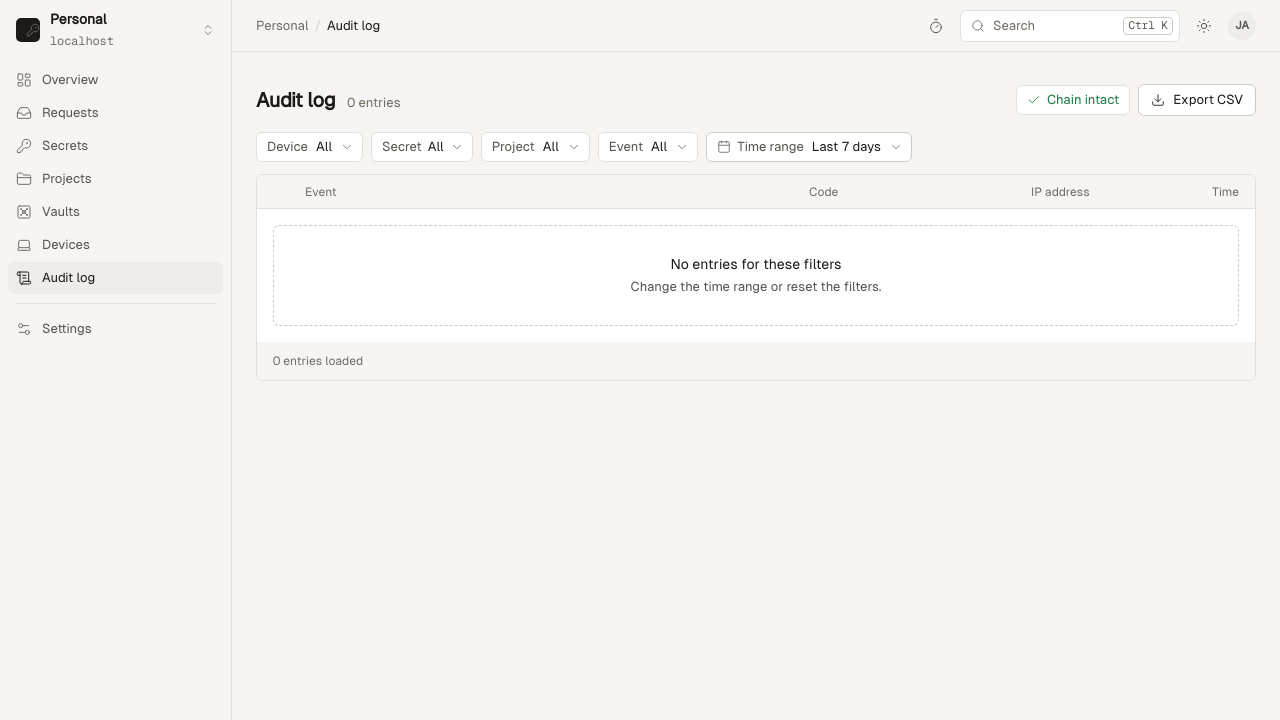
Test: audit page › Secret filter searches on the server and sets secretId
This screenshot has width=1280, height=720.
Click the button with aria-label "Secret: All".
click(422, 147)  # box [371,132,473,162]
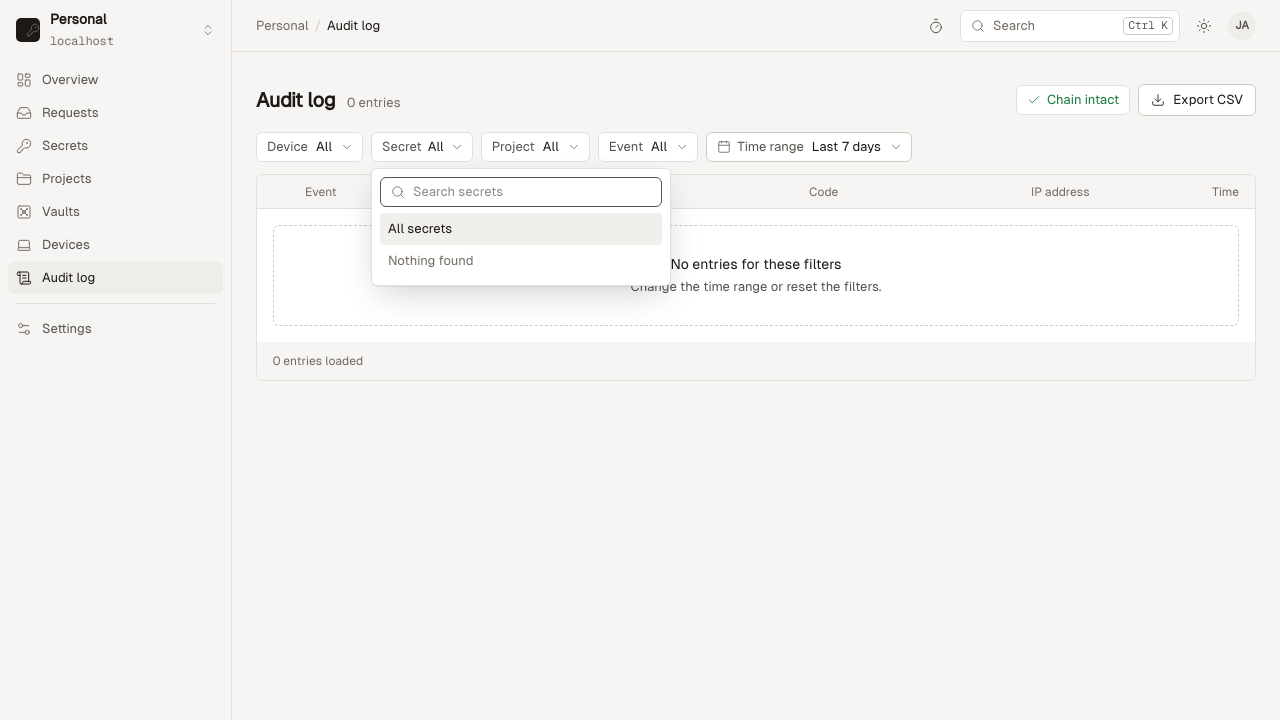
Type "git" into the search field labelled "Search secrets".
click(532, 192); type("git")  # box [413,182,651,202]
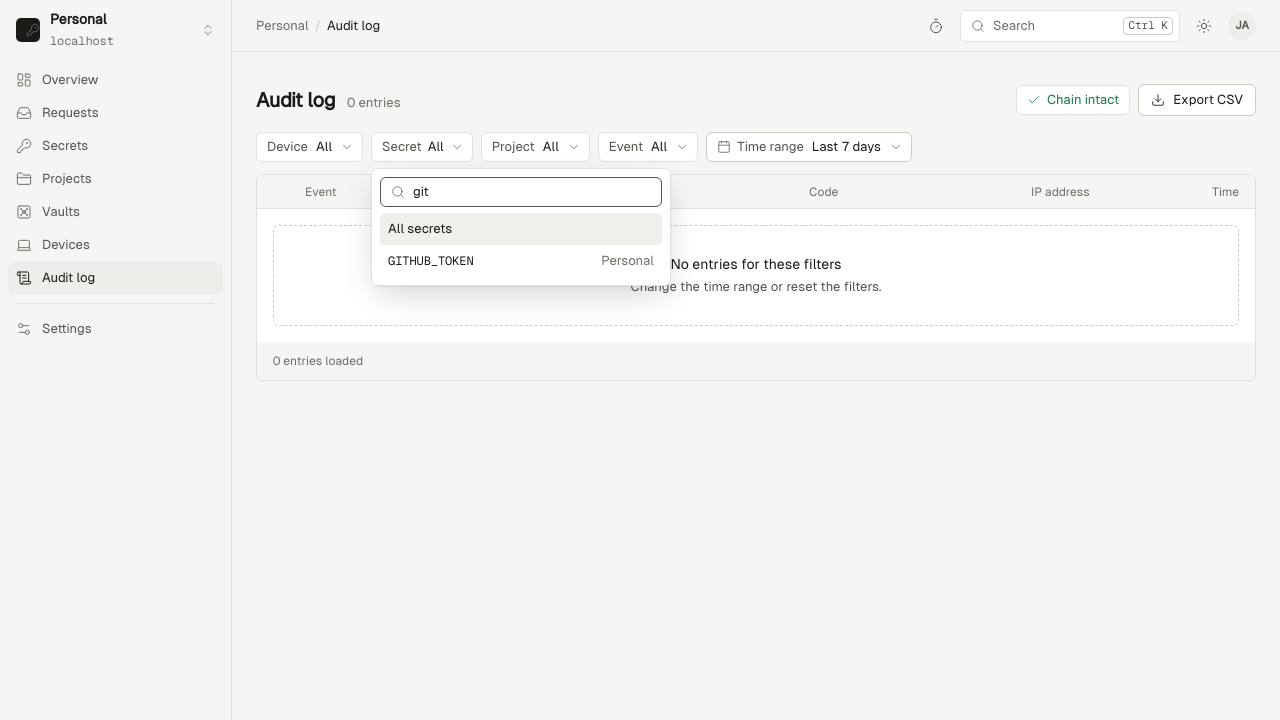
Click the option "GITHUB_TOKEN Personal".
click(431, 261)  # box [388,253,654,269]
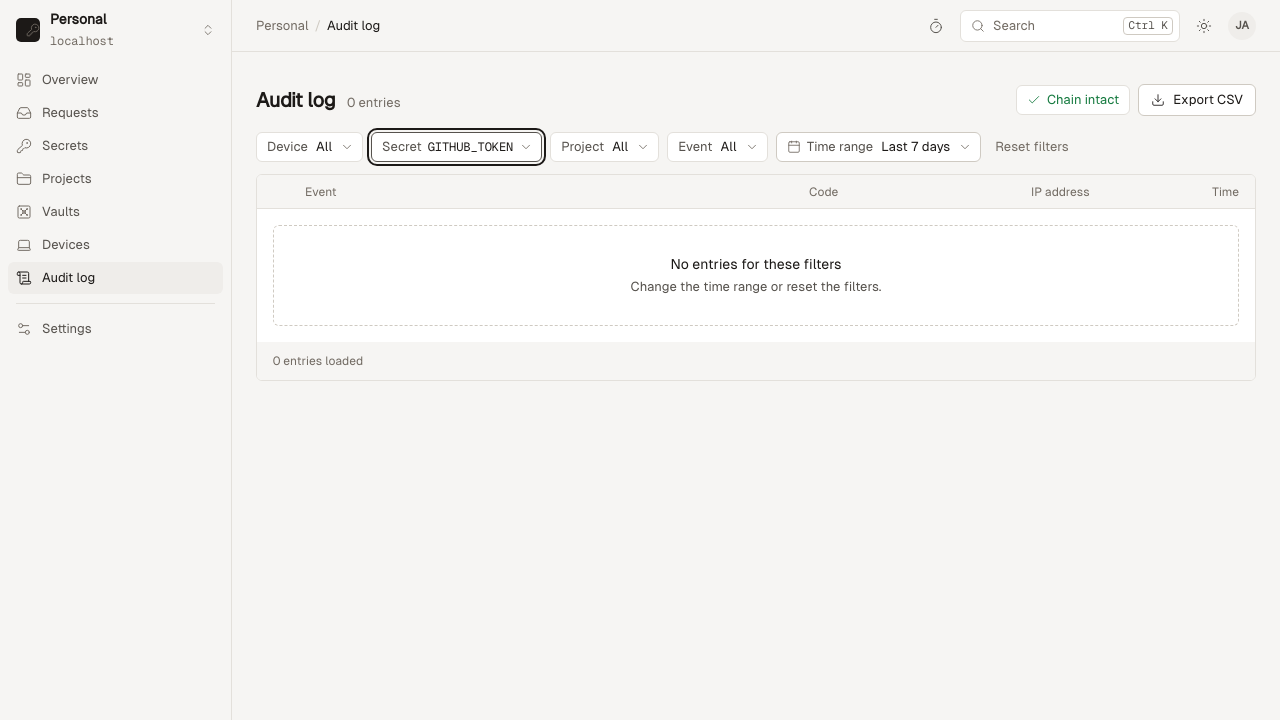
expect the button with aria-label "Secret: GITHUB_TOKEN" is shown: met, box [371,132,542,162]
